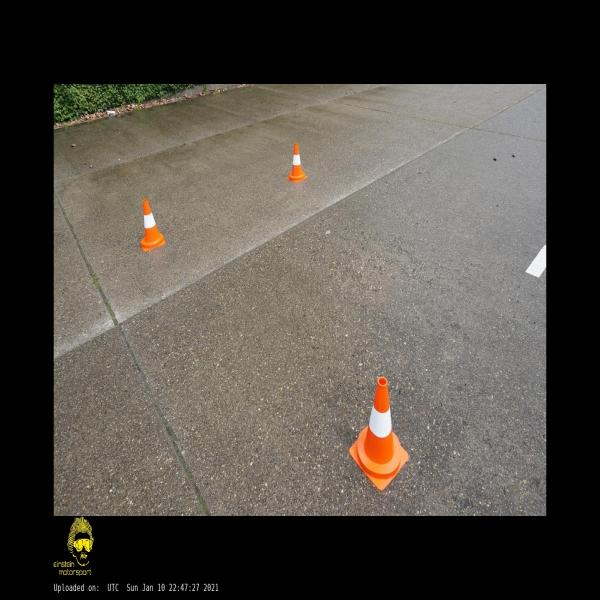orange_cone: (349, 377, 409, 492), (140, 199, 166, 252), (287, 143, 307, 183)
